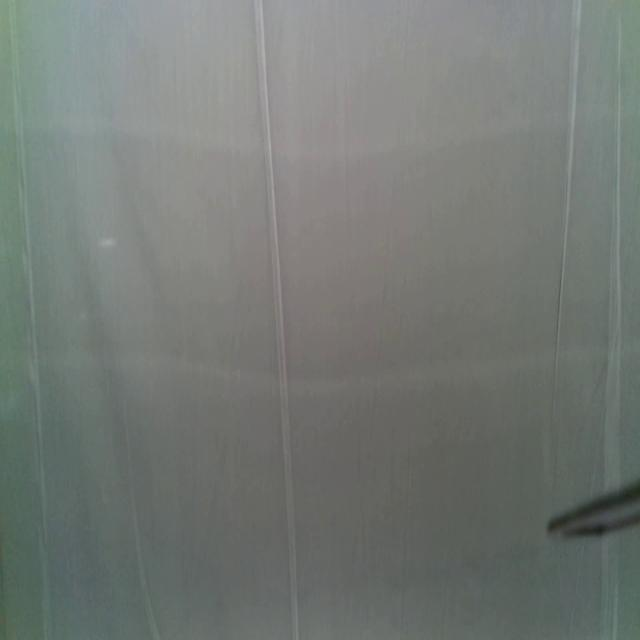color bleeding: (0, 95, 640, 168), (0, 334, 640, 406)
crease: (257, 0, 299, 640), (12, 0, 52, 636), (550, 1, 584, 418), (602, 13, 625, 485), (125, 424, 158, 638), (597, 536, 621, 640)
